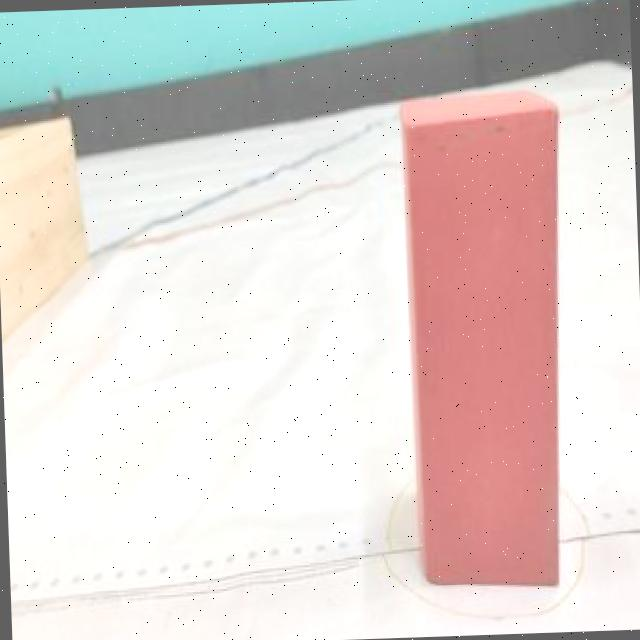redbox: (397, 84, 572, 590)
